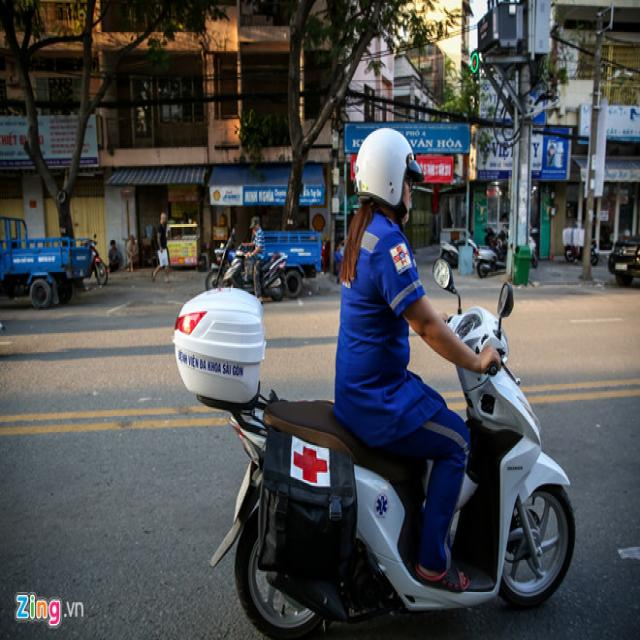3-4-helmet: (355, 128, 424, 210)
